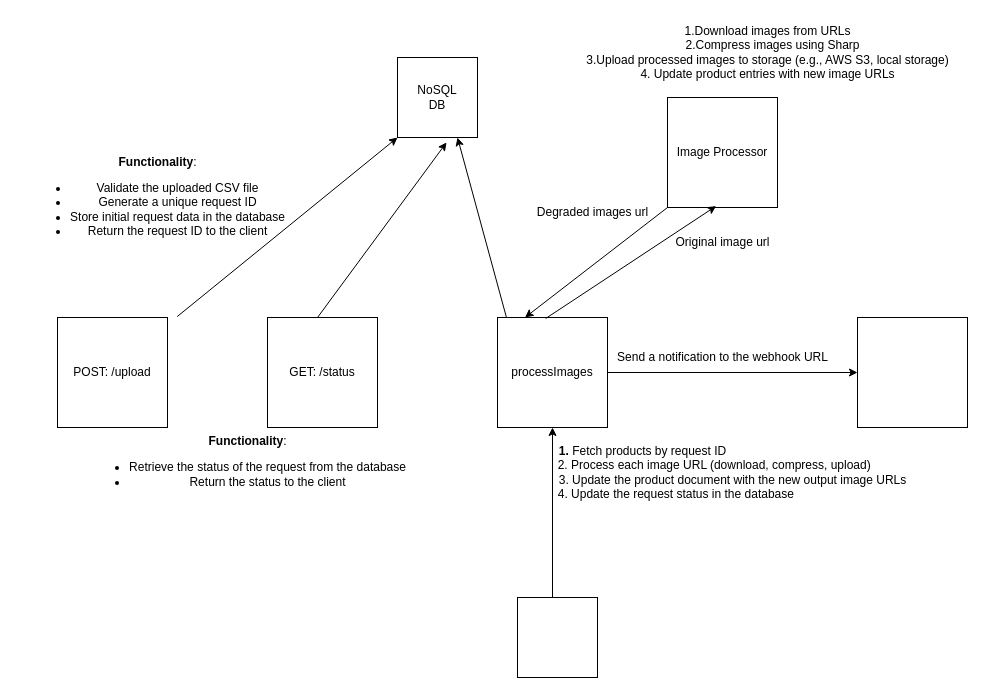
Some shapes in this 985 by 695 pixel diagram are drawn without their labels. The shapes that lost their labels are listed below. From the top down, each one's centre as x and y in pixels, then its label:
At (912,372): "/webhook".
At (557,637): "Worker Script".
